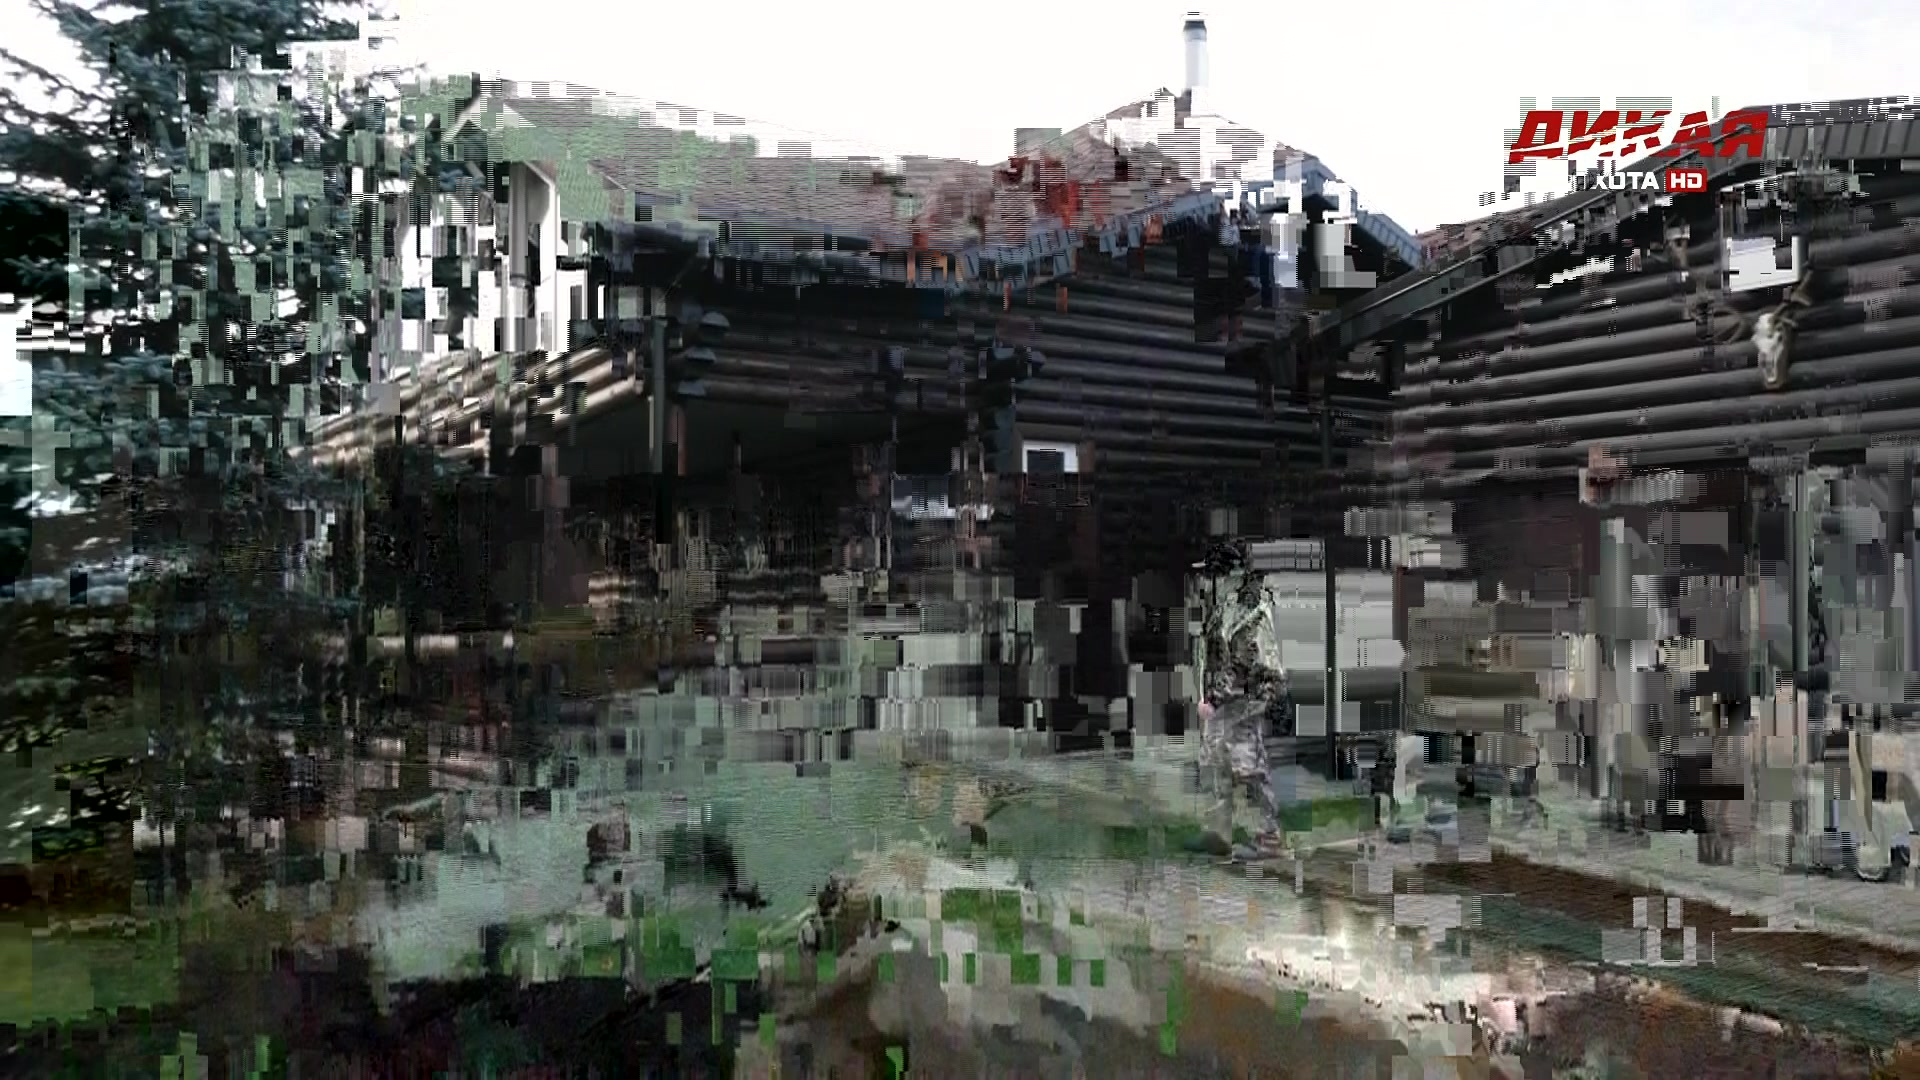Dikaya_Ohota_HD: (1505, 108, 1774, 195)
